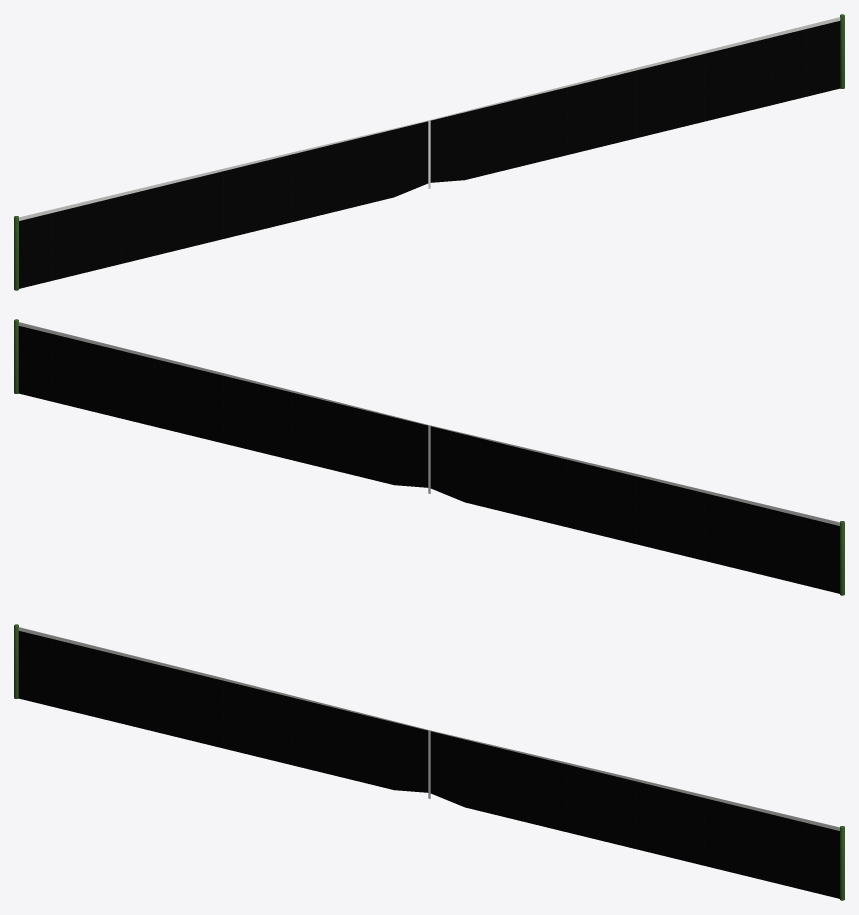
The picture shows the model from 3 angles, top to bottom: view 1: azimuth 30°, elevation 25°; view 2: azimuth 150°, elevation 25°; view 3: azimuth 330°, elevation 25°; orthographic projection.
Parts seen in each view (by area): view 1: TennisNet, TennisNet01, Poles; view 2: TennisNet, TennisNet01, Poles; view 3: TennisNet, TennisNet01, Poles.
Part boxes in pixels (<box>): TennisNet: <box>19,21,840,288</box>; TennisNet01: <box>19,17,840,220</box>; Poles: <box>14,14,844,290</box>; TennisNet: <box>18,326,839,593</box>; TennisNet01: <box>18,322,839,525</box>; Poles: <box>14,319,844,595</box>; TennisNet: <box>18,631,839,898</box>; TennisNet01: <box>18,627,839,830</box>; Poles: <box>14,624,844,900</box>.
Size of what is drawn, in the model's own units: 12.95 by 1.09 by 0.071.
2 materials, 2 textured.
